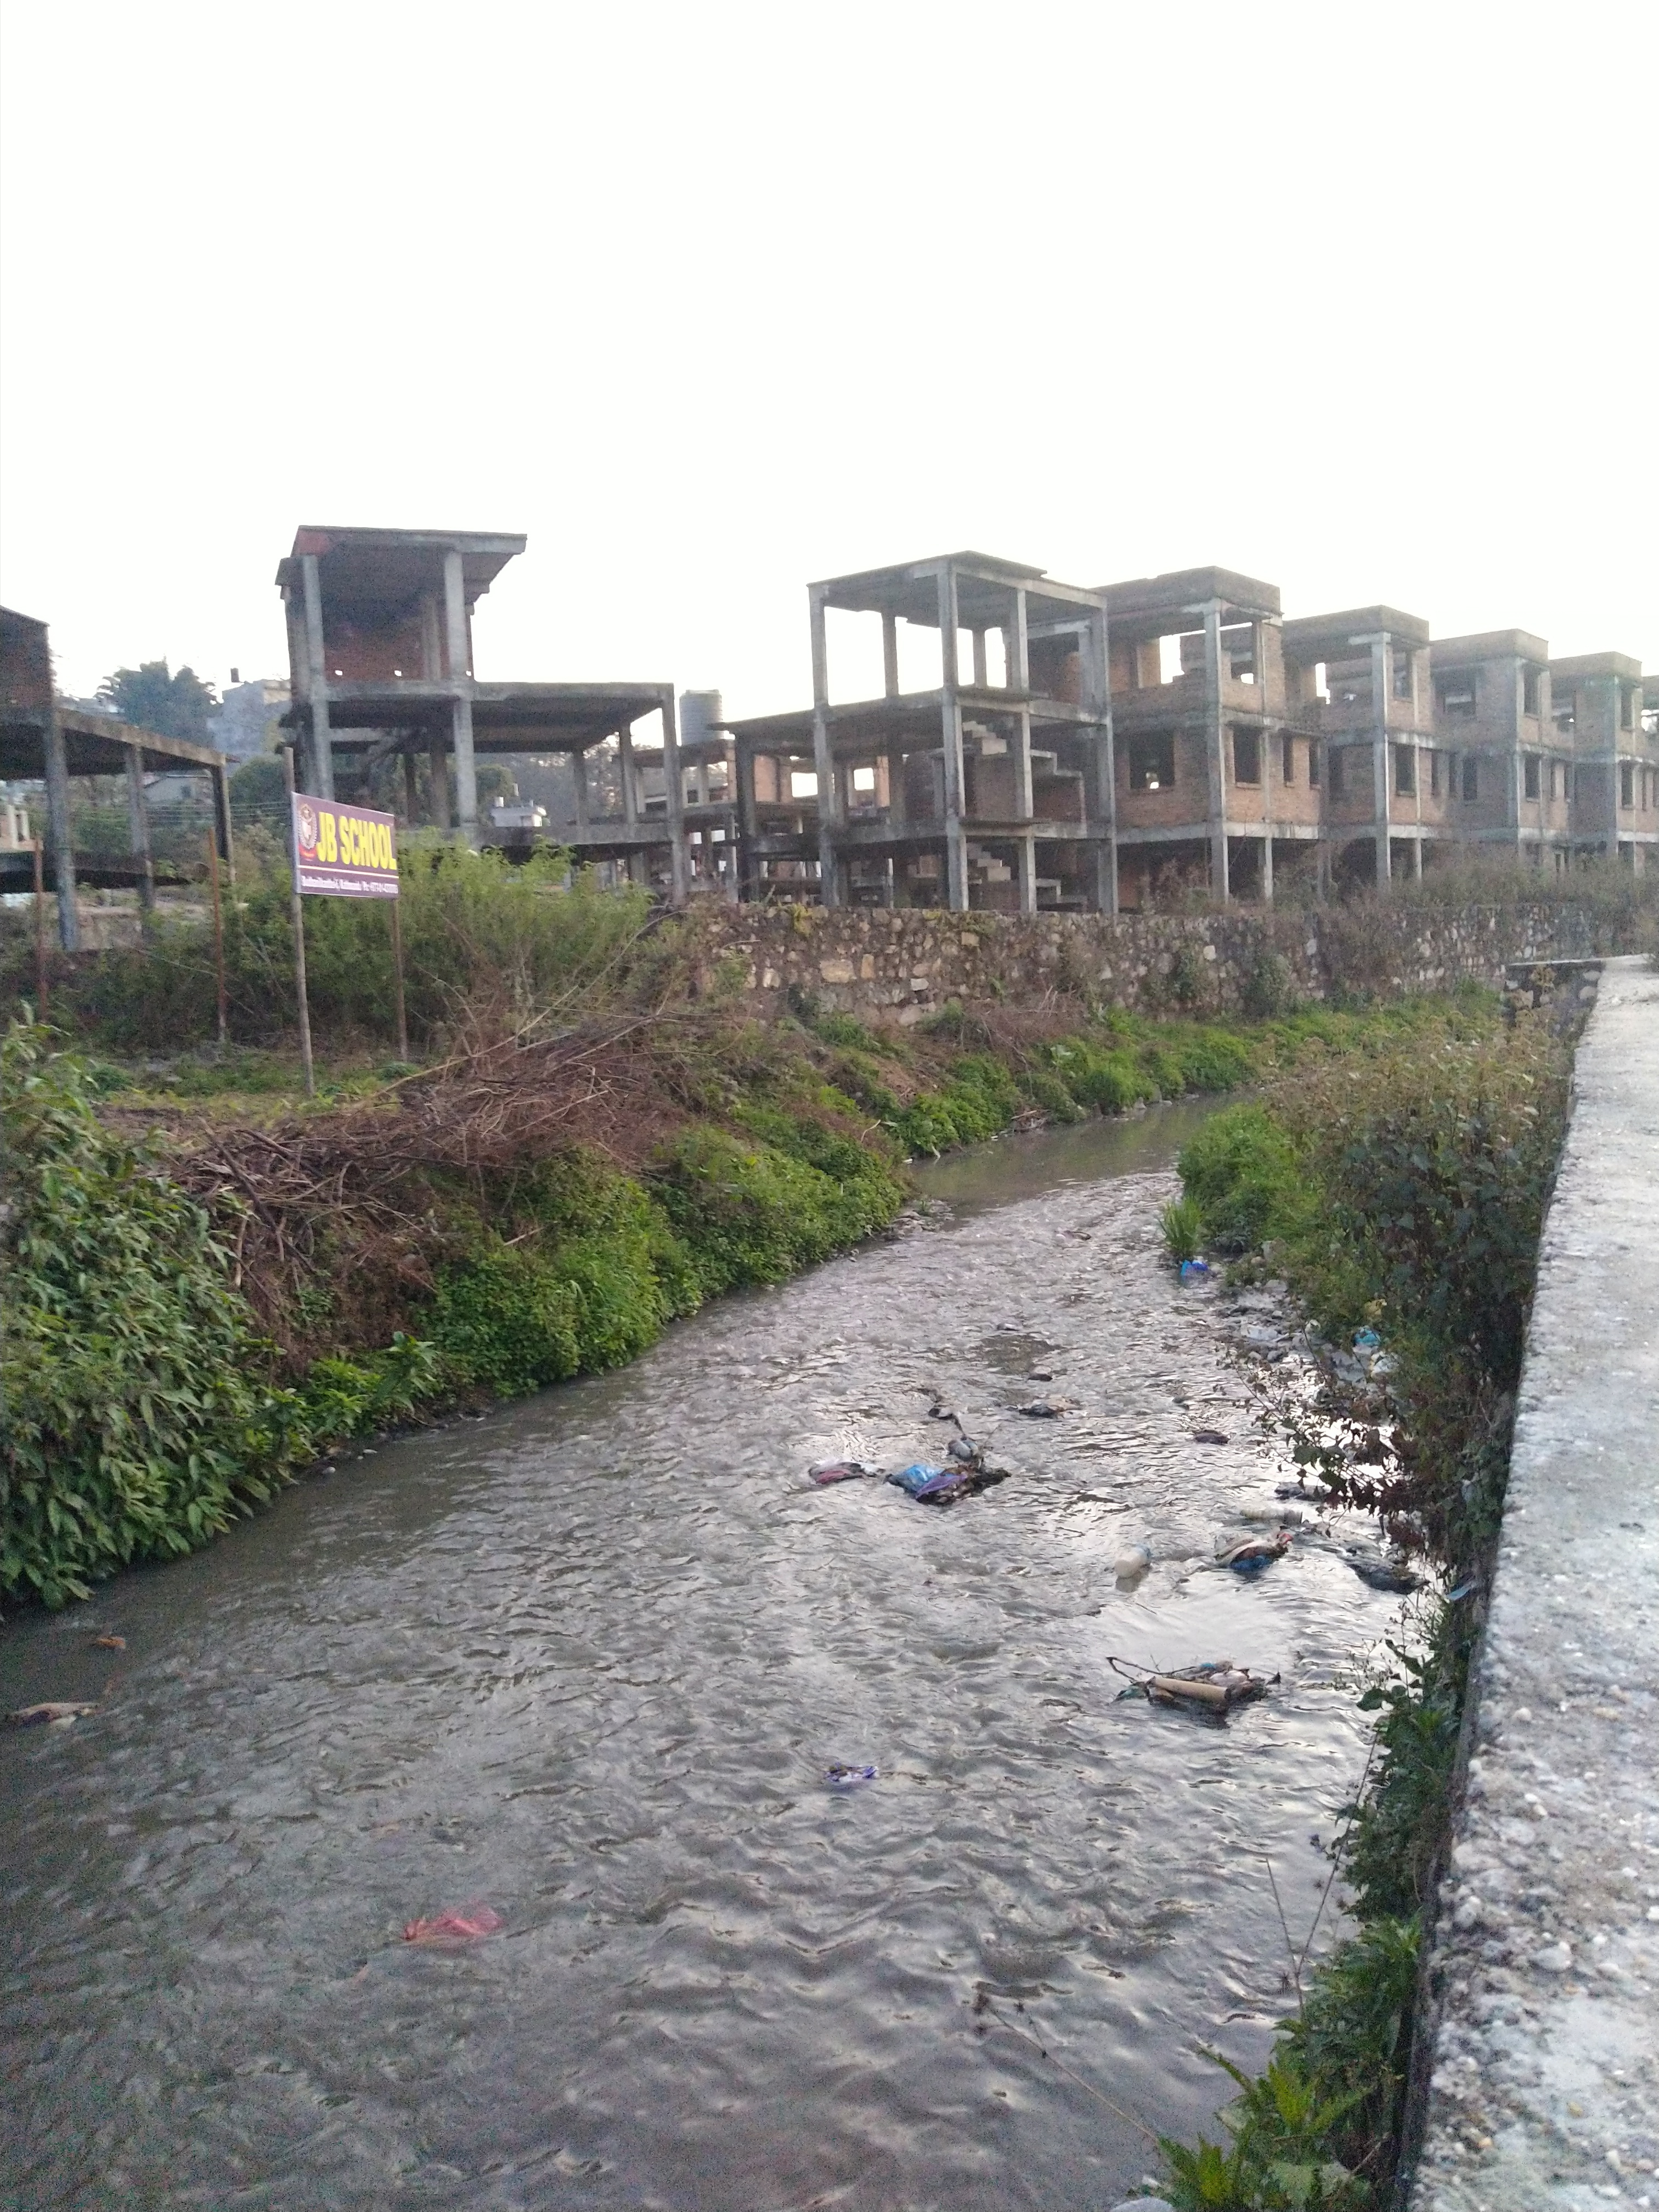Plastic Bottle: (1115, 1545, 1152, 1578), (1239, 1505, 1302, 1524), (1243, 1324, 1279, 1341), (948, 1439, 971, 1458)
